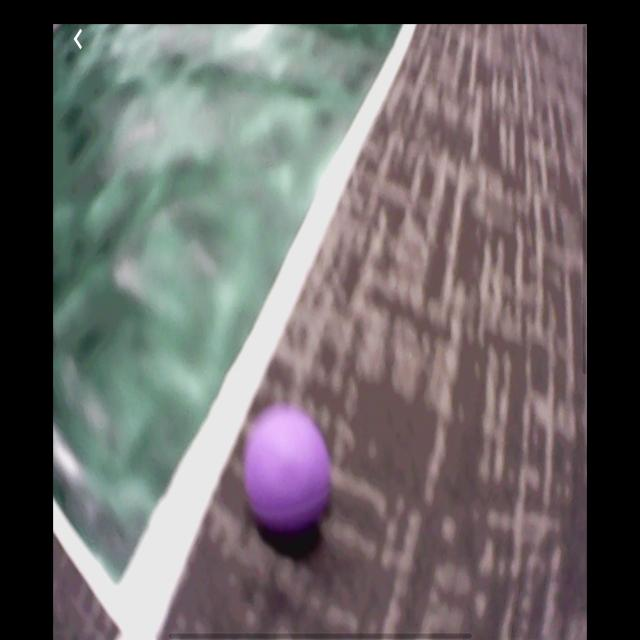ball: (247, 412, 333, 530)
